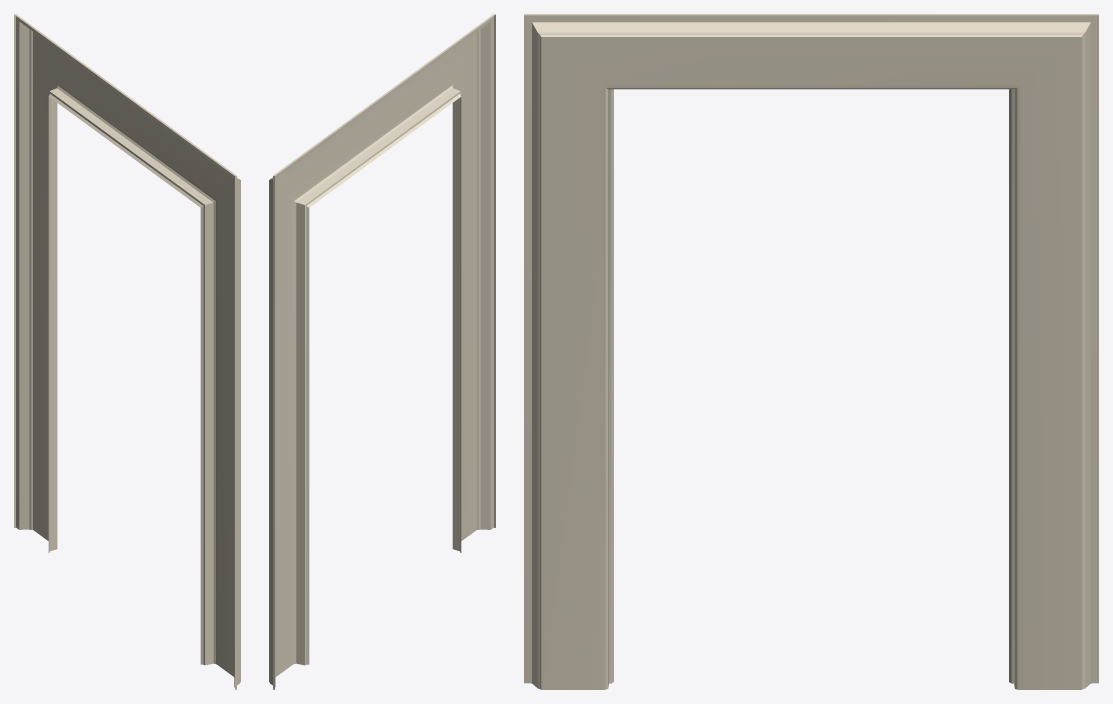
The model's file is StipitePortaPietra.fbx.
3 views of the same model, side by side, from view 1: azimuth 30°, elevation 25°; view 2: azimuth 150°, elevation 25°; view 3: azimuth 270°, elevation 25° (orthographic). The views are drawn at different scales.
Visible parts, largest first — view 1: StipitePortaPietra; view 2: StipitePortaPietra; view 3: StipitePortaPietra.
Boxes of the visible parts, bbox=[...] form: StipitePortaPietra: bbox=[14, 14, 240, 689]; StipitePortaPietra: bbox=[269, 14, 495, 689]; StipitePortaPietra: bbox=[524, 14, 1098, 689].
Size of the model in its own units: 5.2 by 204 by 159.
